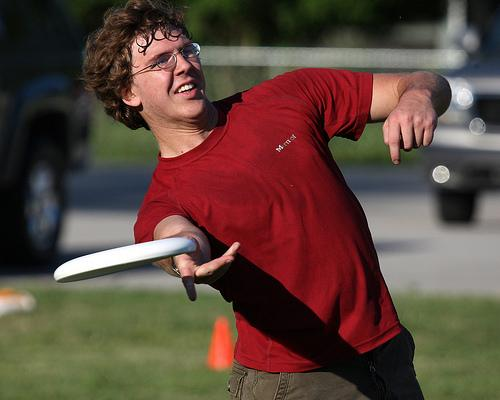person: (84, 3, 455, 398)
